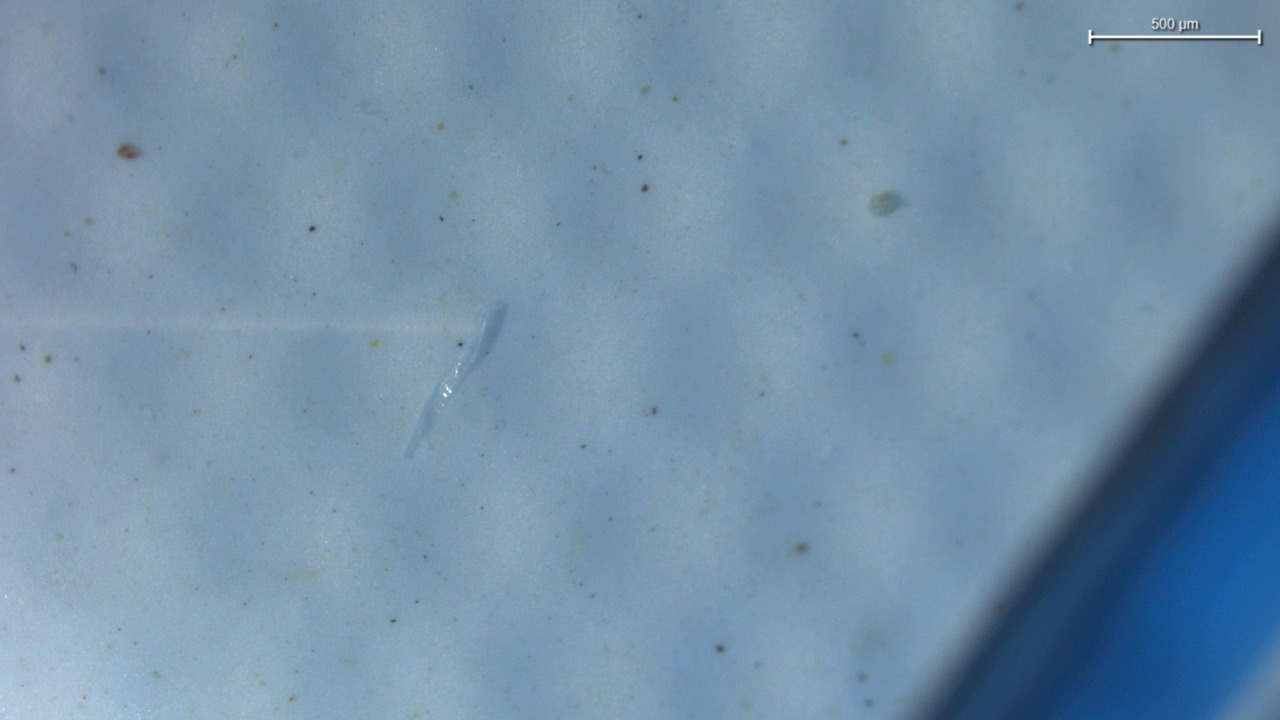microplastic_fragment: (405, 303, 506, 458)
